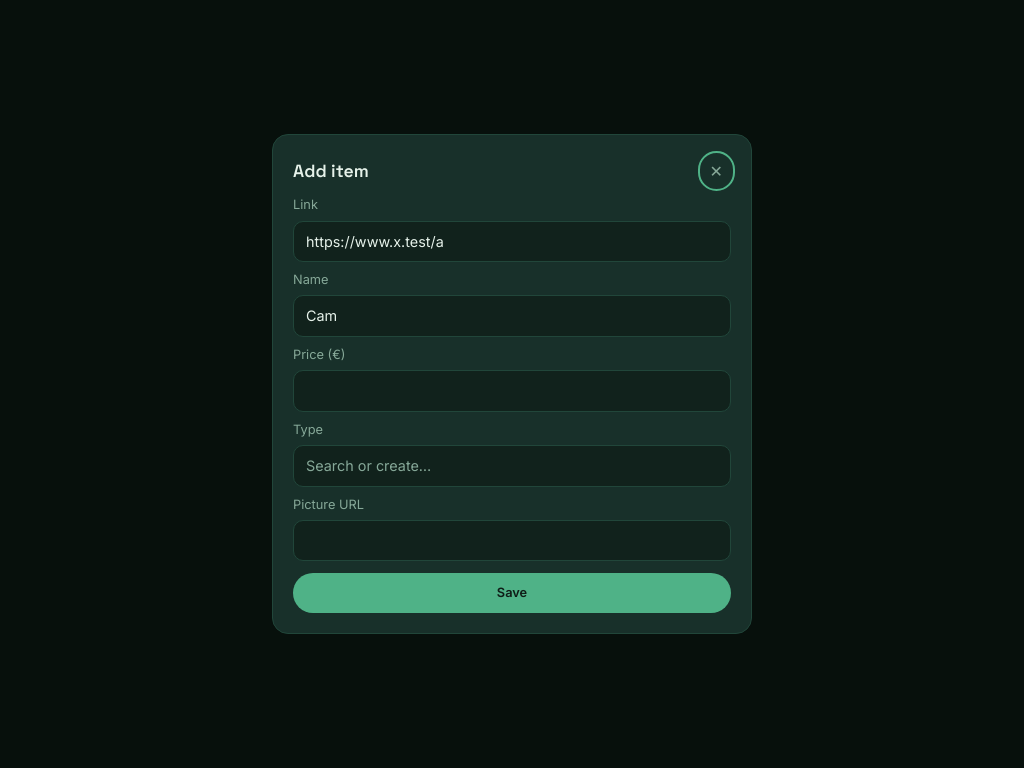
Test: rejects a non-http link
Replace the text in the field labelled "Link" with "javascript:x" at (512, 242), box [293,221,731,262]
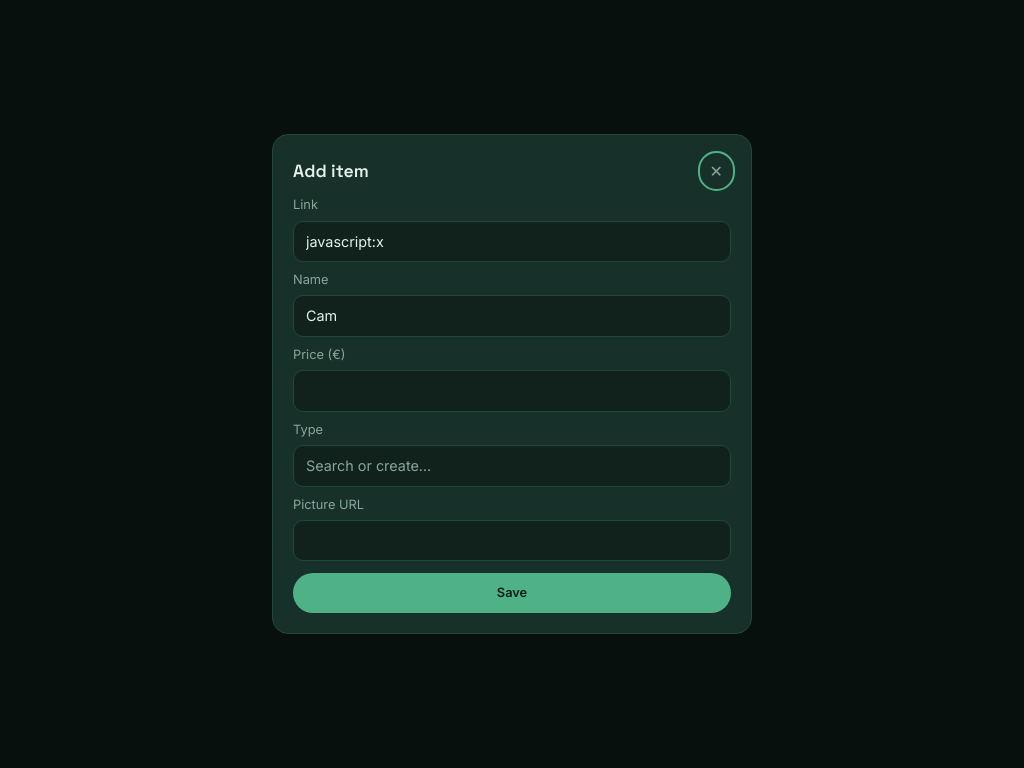
Click the button "Save" at (512, 593), box [293,573,731,612]
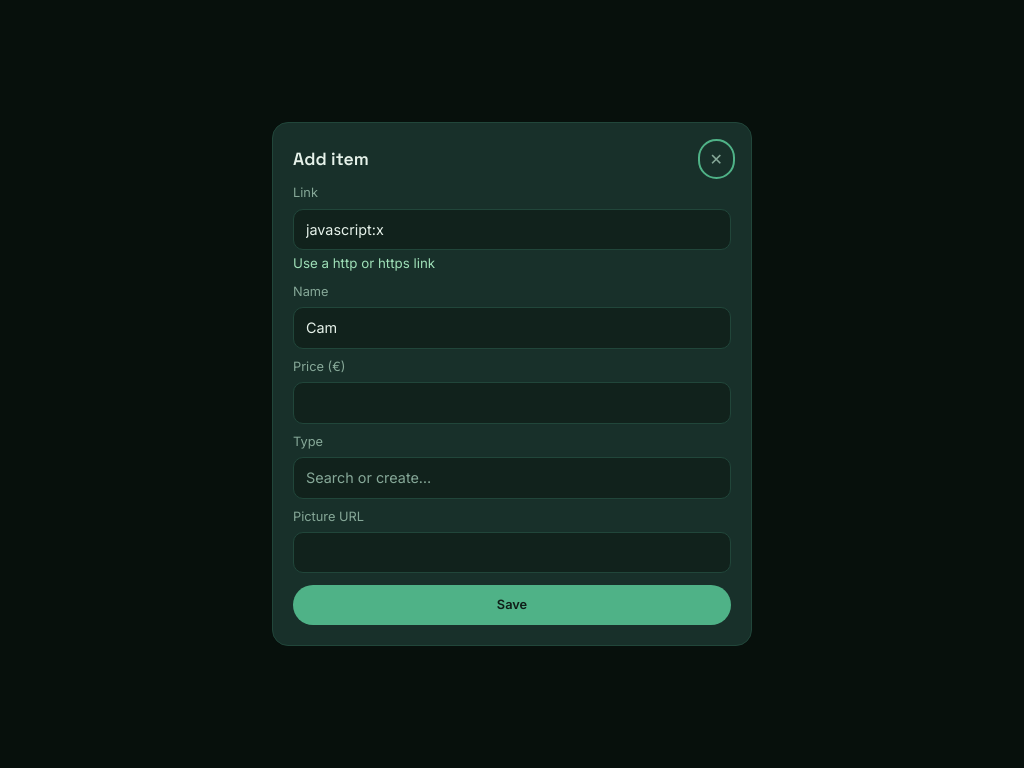
Expected: the text "Use a http or https link" is shown, [293,255,435,271]
